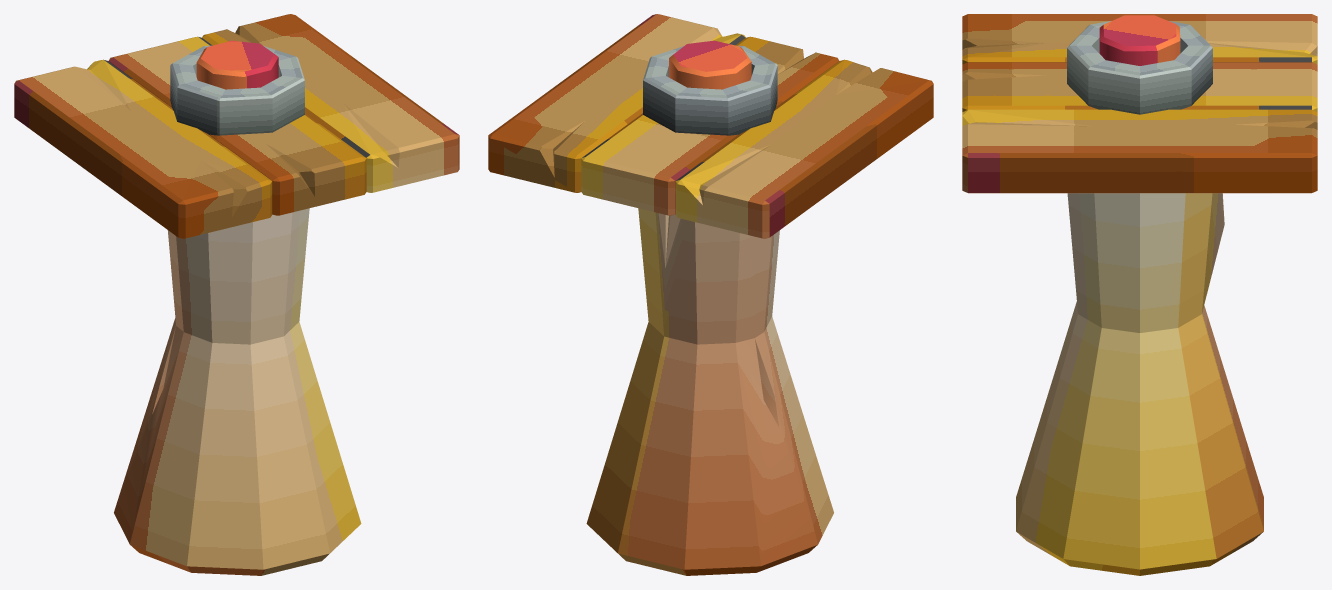
File: Button.fbx
3 views of the same model, side by side, from view 1: azimuth 30°, elevation 25°; view 2: azimuth 150°, elevation 25°; view 3: azimuth 270°, elevation 25° (orthographic). The views are drawn at different scales.
Visible parts, largest first — view 1: ButtonStand, Button; view 2: ButtonStand, Button; view 3: ButtonStand, Button.
Part boxes in pixels (x1=…): ButtonStand: x1=14, y1=14, x2=459, y2=575; Button: x1=196, y1=40, x2=278, y2=89; ButtonStand: x1=488, y1=14, x2=933, y2=575; Button: x1=669, y1=40, x2=751, y2=89; ButtonStand: x1=962, y1=14, x2=1317, y2=575; Button: x1=1099, y1=15, x2=1180, y2=65.
Size of the model in its own units: 45.29 by 72.68 by 47.24.
